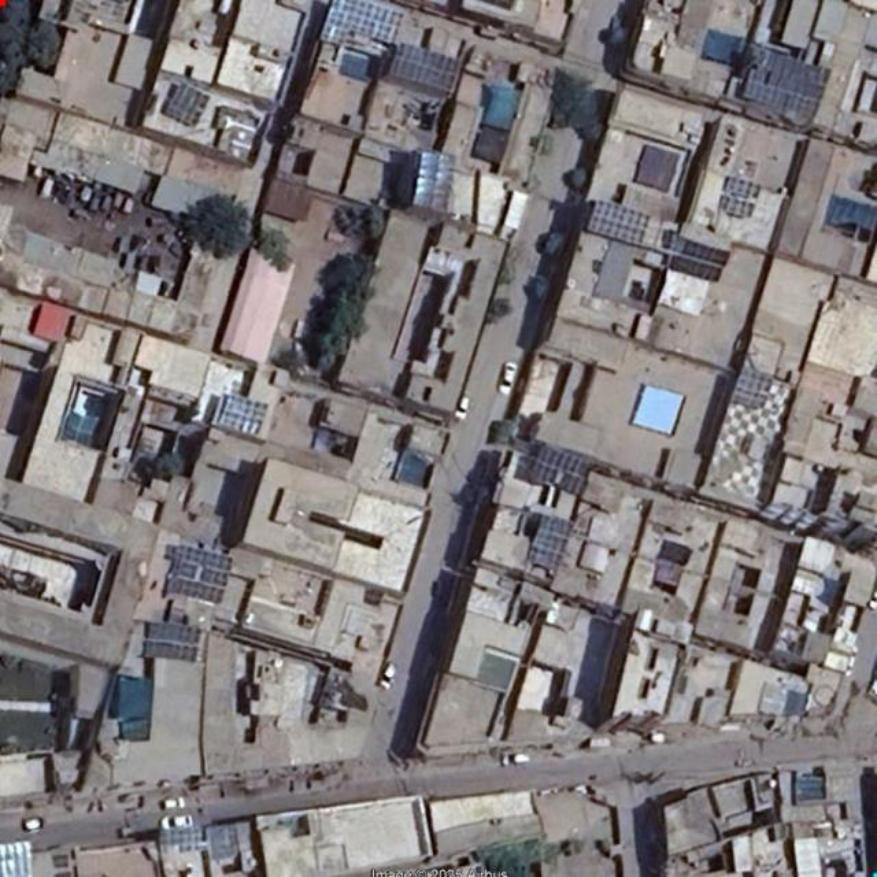Solarpanel: (743, 50, 832, 121), (322, 0, 405, 56), (167, 545, 234, 604), (528, 445, 591, 497), (393, 44, 459, 92), (668, 237, 731, 285), (590, 198, 652, 243), (528, 513, 573, 570), (143, 623, 200, 663), (220, 392, 269, 436), (165, 84, 206, 129), (733, 367, 773, 409), (723, 176, 762, 219)
